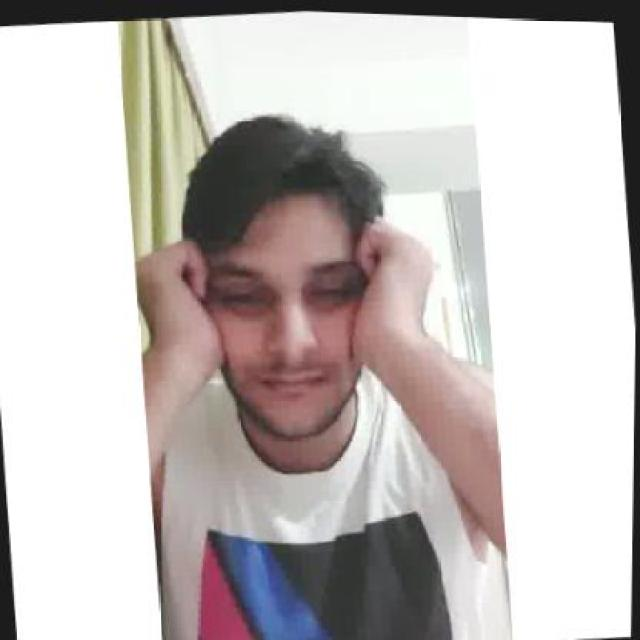inattentif: (173, 98, 384, 454)
